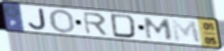D: (109, 13, 138, 40)
J: (27, 8, 48, 31)
M: (170, 18, 203, 45), (143, 16, 174, 41)
O: (49, 8, 77, 34)
R: (82, 12, 110, 37)
